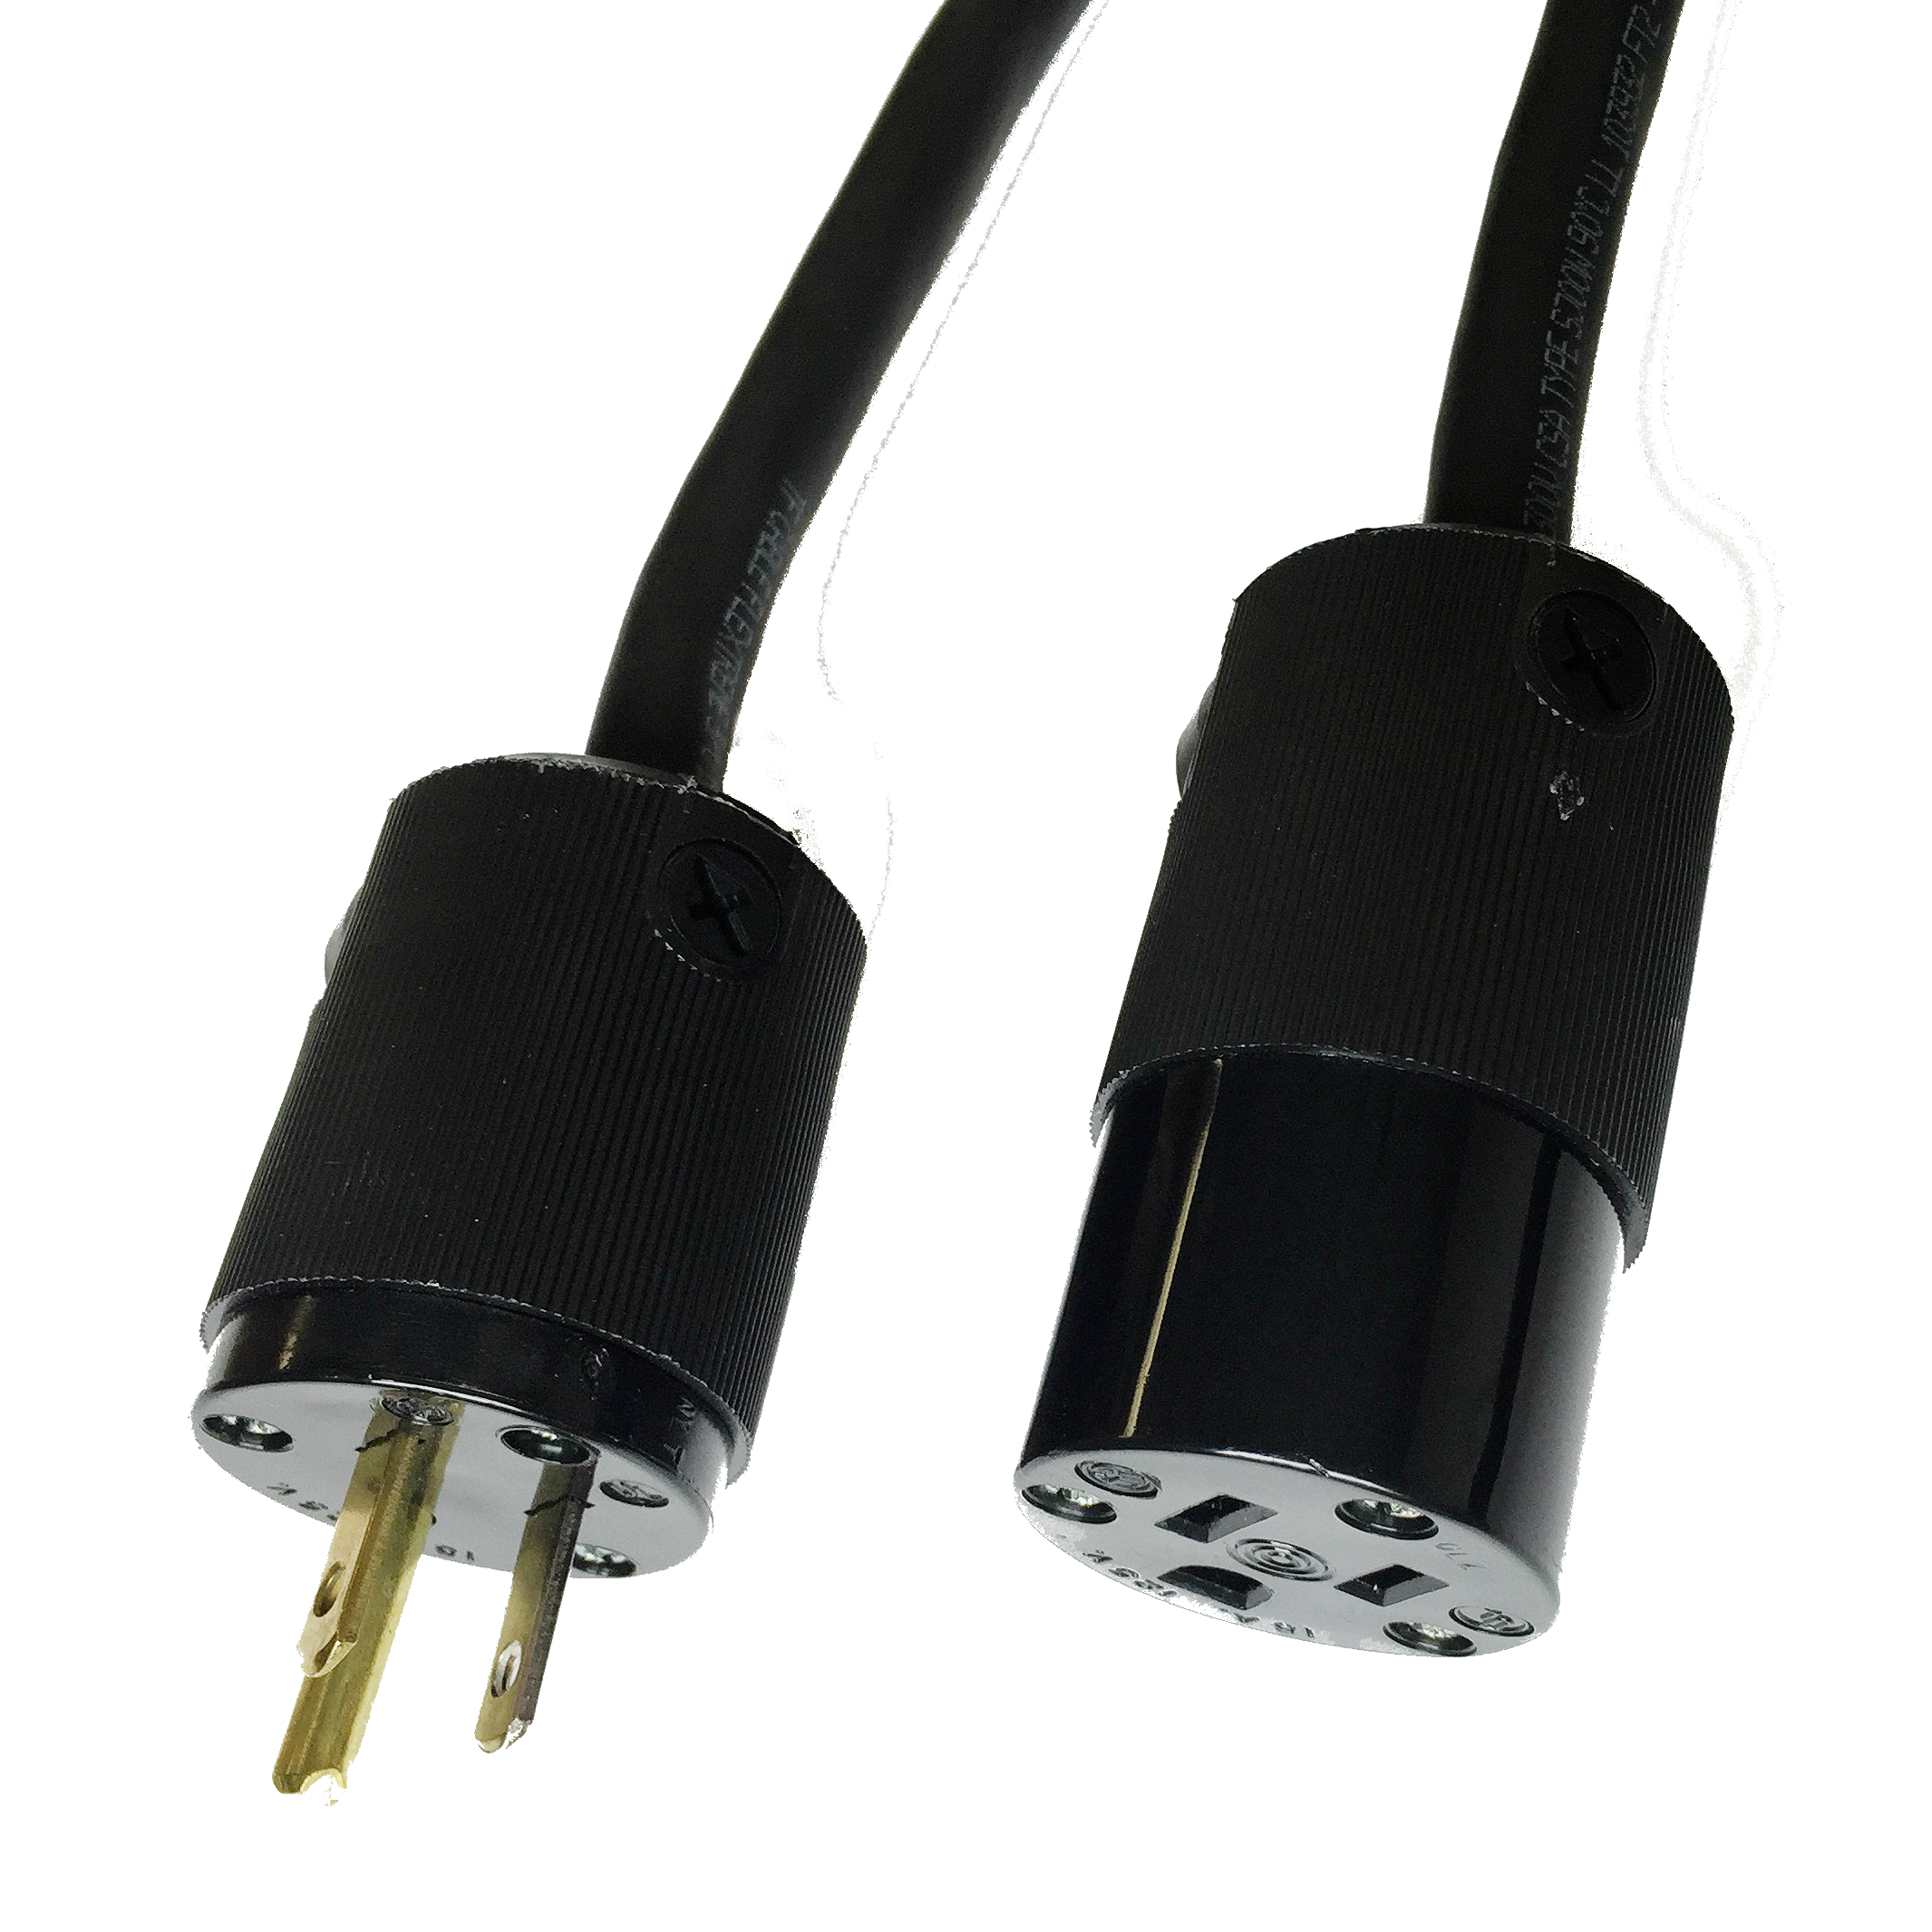Nonrec_Tangler: (131, 7, 1775, 1813)
